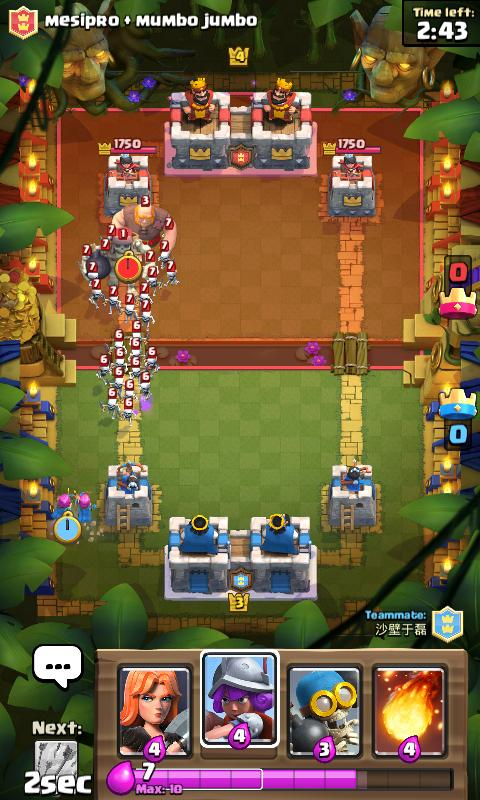ally_archer: (73, 488, 96, 524), (48, 486, 72, 520)
enemy_giant: (108, 194, 177, 255)
enemy_giant_skeleton: (76, 226, 150, 290)
enemy_skeleton: (118, 290, 140, 322), (97, 386, 119, 417), (86, 277, 105, 309), (103, 285, 122, 315), (93, 353, 111, 384), (138, 299, 155, 331), (119, 397, 137, 426), (137, 370, 153, 401), (163, 260, 180, 288), (104, 327, 122, 352), (146, 264, 162, 292), (144, 345, 159, 372), (127, 318, 142, 344), (128, 335, 142, 360), (84, 261, 98, 285), (157, 238, 170, 262), (112, 345, 126, 365), (127, 356, 140, 377), (122, 378, 135, 398), (112, 365, 124, 384)
